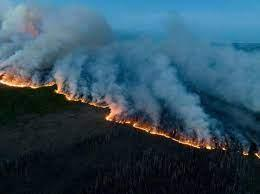fire: (0, 3, 259, 191), (168, 131, 212, 155), (1, 75, 45, 98), (102, 108, 141, 132), (62, 91, 87, 108)
smoke: (18, 5, 131, 67), (212, 21, 259, 141), (155, 53, 203, 129)
